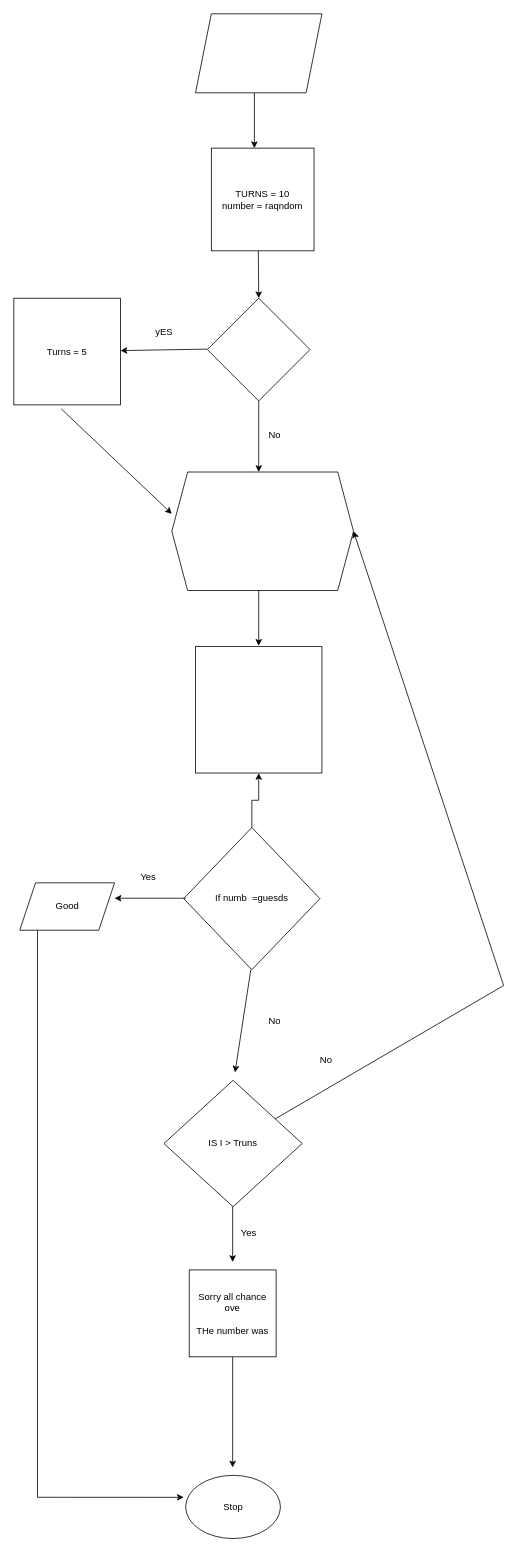
This 524x1552 diagram has some shape labels left out. Here are the shapes that lost their labels. From the top down, the centre of each, then its label:
At point 258,53: "I AM THINKING OFA NUMBER sELECT THE LEVEL".
At point 258,349: "level == hard".
At point 262,531: "Iteraor = 0 , i < turns".
At point 258,709: "Guess the number".
